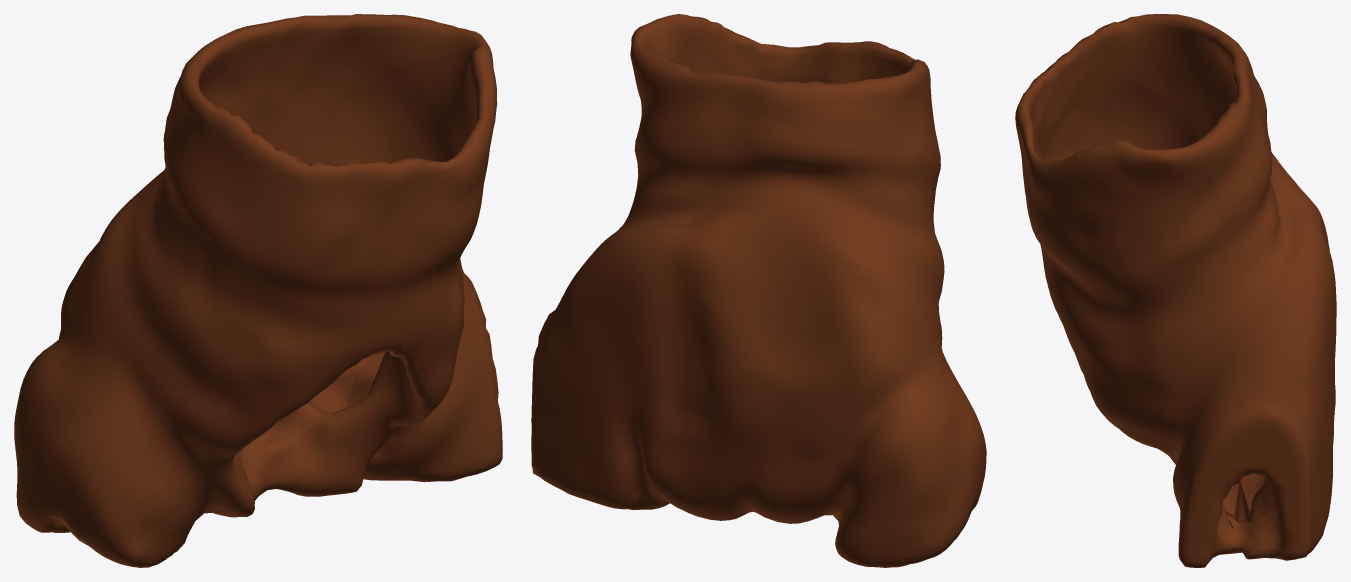
Rendered from Pat2_Mav_SkinMuscle.fbx.
The picture shows the model from 3 angles, left to right: view 1: azimuth 30°, elevation 25°; view 2: azimuth 150°, elevation 25°; view 3: azimuth 270°, elevation 25°; orthographic projection. The views are drawn at different scales.
Parts seen in each view (by area): view 1: Seg_MuscleSkin; view 2: Seg_MuscleSkin; view 3: Seg_MuscleSkin.
Part boxes in pixels (x1,y1,x2,y2): Seg_MuscleSkin: [14, 14, 502, 567]; Seg_MuscleSkin: [531, 14, 986, 567]; Seg_MuscleSkin: [1015, 14, 1336, 567].
Size of the model in its own units: 213 by 222 by 151.
